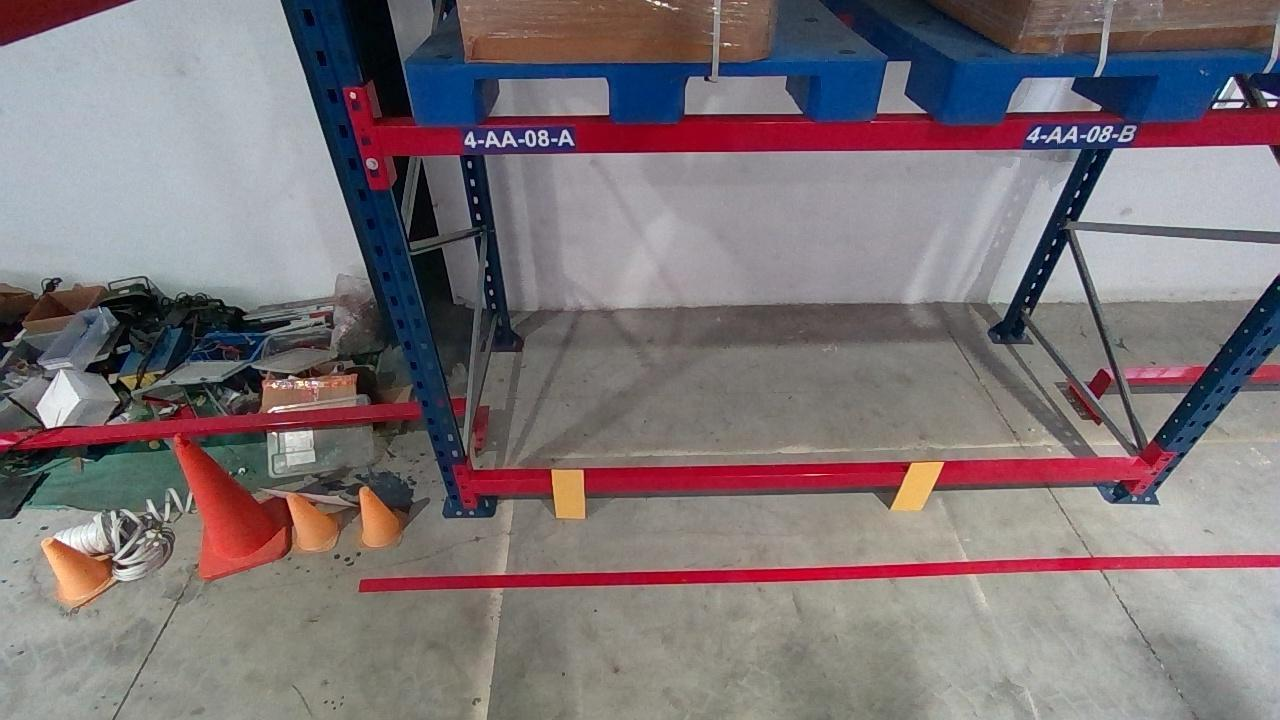h_rack: (375, 116, 1277, 153), (473, 464, 1147, 494)
orange_strip: (890, 461, 947, 510), (551, 469, 585, 518)
red_line: (357, 552, 1276, 590)
small_pallet: (389, 59, 891, 118), (950, 57, 1278, 119)
